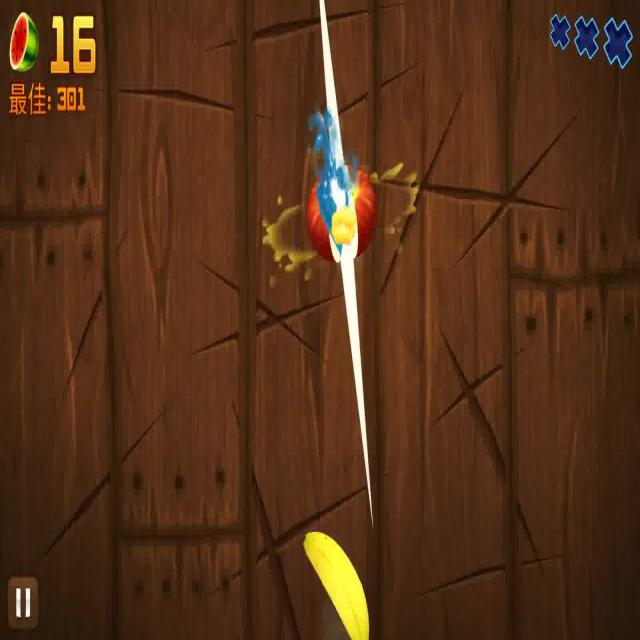fruit: (298, 514, 372, 640), (298, 161, 384, 264)
